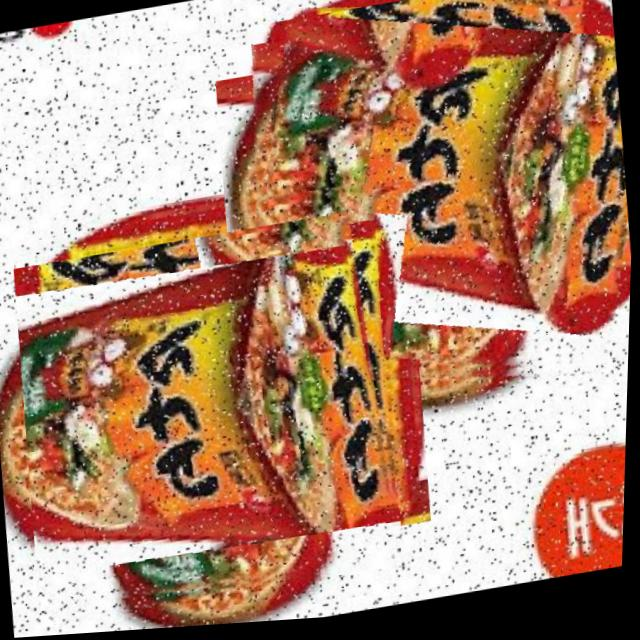Miscellaneous: (225, 0, 640, 426), (5, 208, 412, 628)
